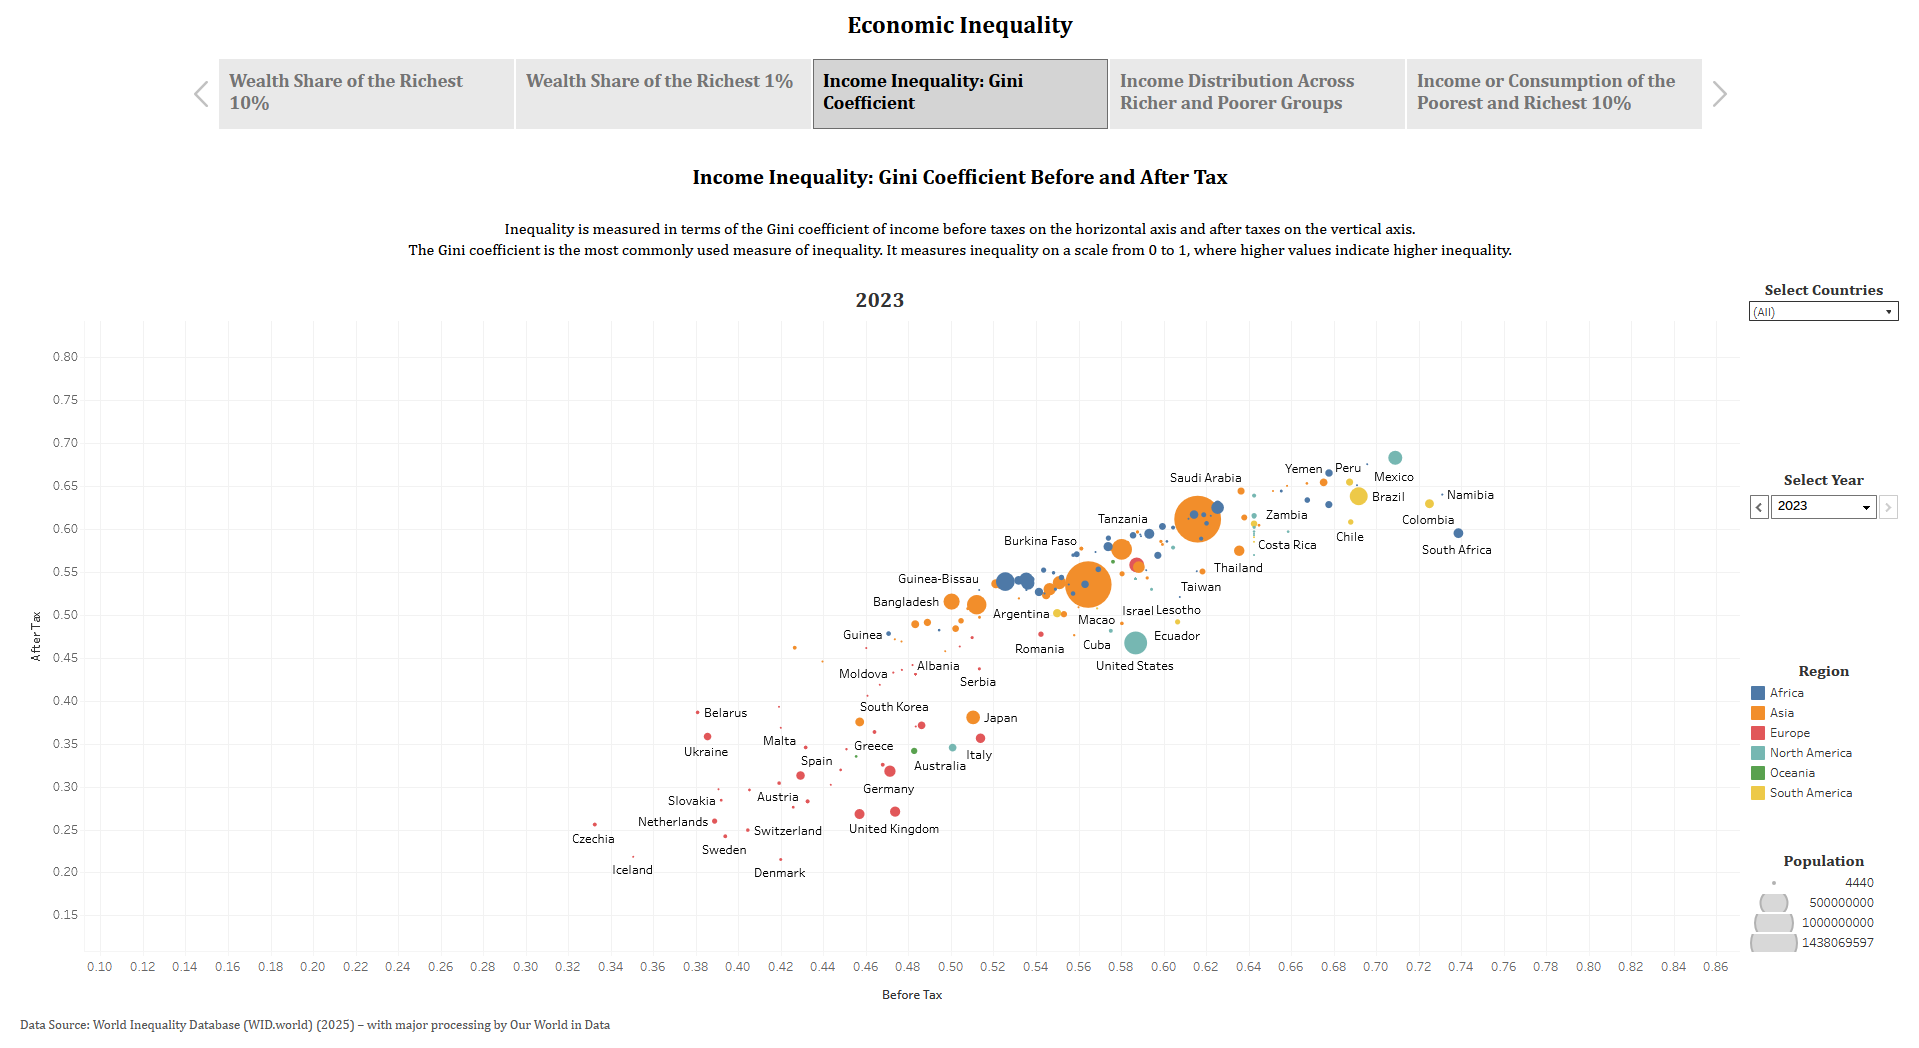

What the dashboard file says about the page in this screenshot:
{"tool":"tableau","page":{"name":"Income Inequality","canvas":[1000,1000],"units":"permille","ordinal":2},"visuals":[{"type":"text","box":[4.9,9.3,990.3,60.6]},{"type":"text","box":[4.9,70,990.3,79.5]},{"type":"worksheet","title":"Gini_Coefficient_Pre_Post_Tax","mark":"Circle","rows":["gini_post_tax"],"cols":["gini_pre_tax"],"box":[4.9,149.5,893.1,841.1]},{"type":"filter","title":"Gini_Coefficient_Pre_Post_Tax","param":"[federated.1ic6cju1nxhwp411o8oqu0tol7xu].[none:country:nk]","box":[898,149.5,97.1,210.3]},{"type":"currpage","title":"Gini_Coefficient_Pre_Post_Tax","box":[898,359.8,97.1,210.3]},{"type":"legend","title":"Gini_Coefficient_Pre_Post_Tax","param":"[federated.1ic6cju1nxhwp411o8oqu0tol7xu].[none:region:nk]","box":[898,570.1,97.1,210.3]},{"type":"legend","title":"Gini_Coefficient_Pre_Post_Tax","param":"[federated.1ic6cju1nxhwp411o8oqu0tol7xu].[none:population:qk]","box":[898,780.4,97.1,210.3]}]}

Visuals, with their boxes on the dashboard's canvas, which has no fixed pixel size, in thousandths of its width and height (x1, y1, x2, y2). These are canvas units, not pixel positions in the 1919x1048 screenshot, which may show the page scaled, cropped or inside an application window:
text: [left=5, top=9, right=995, bottom=70]
text: [left=5, top=70, right=995, bottom=150]
"Gini_Coefficient_Pre_Post_Tax" worksheet (Circle marks): [left=5, top=150, right=898, bottom=991]
"Gini_Coefficient_Pre_Post_Tax" filter: [left=898, top=150, right=995, bottom=360]
"Gini_Coefficient_Pre_Post_Tax" currpage: [left=898, top=360, right=995, bottom=570]
"Gini_Coefficient_Pre_Post_Tax" legend: [left=898, top=570, right=995, bottom=780]
"Gini_Coefficient_Pre_Post_Tax" legend: [left=898, top=780, right=995, bottom=991]
